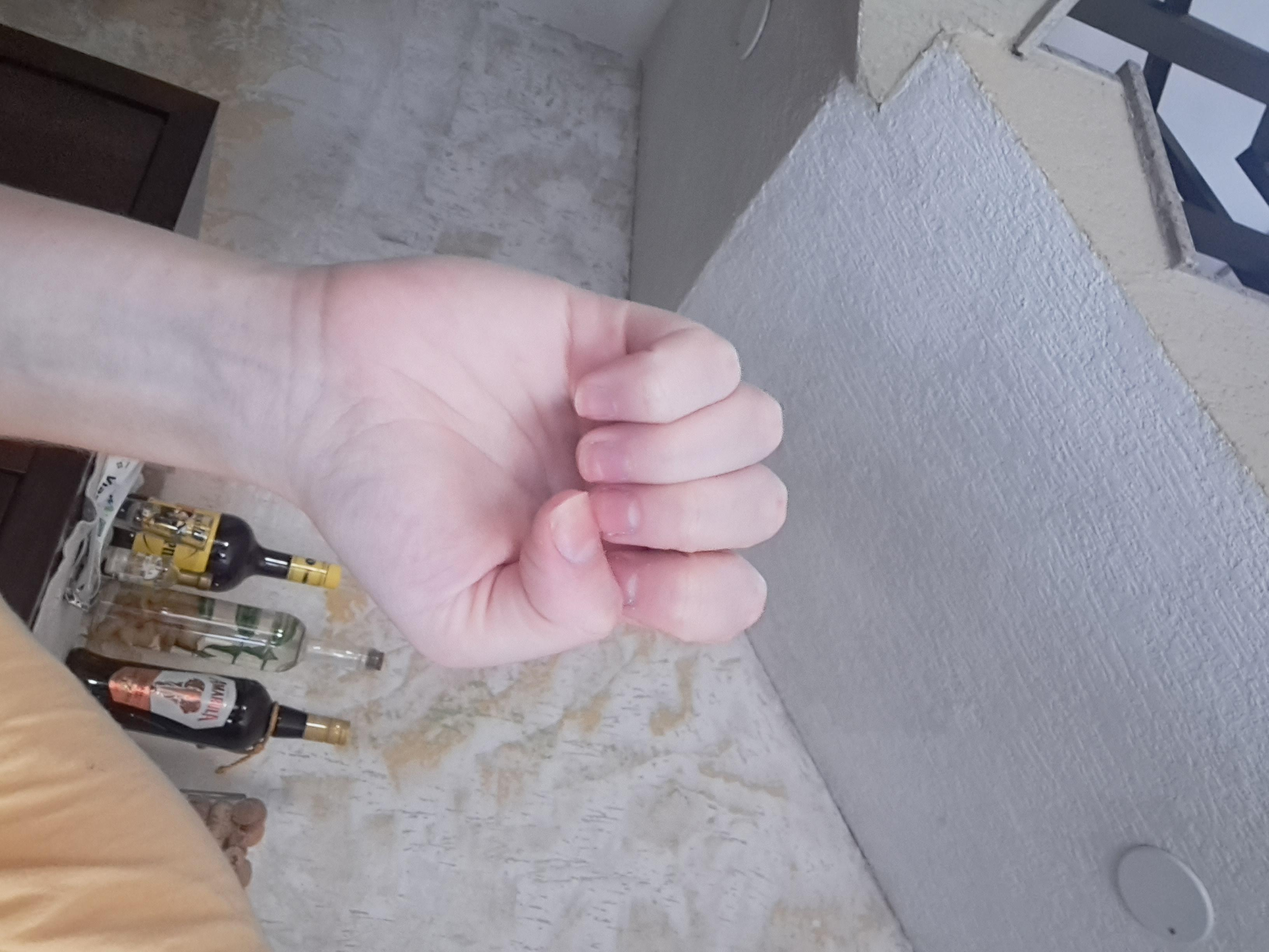E: (311, 344, 928, 747)
